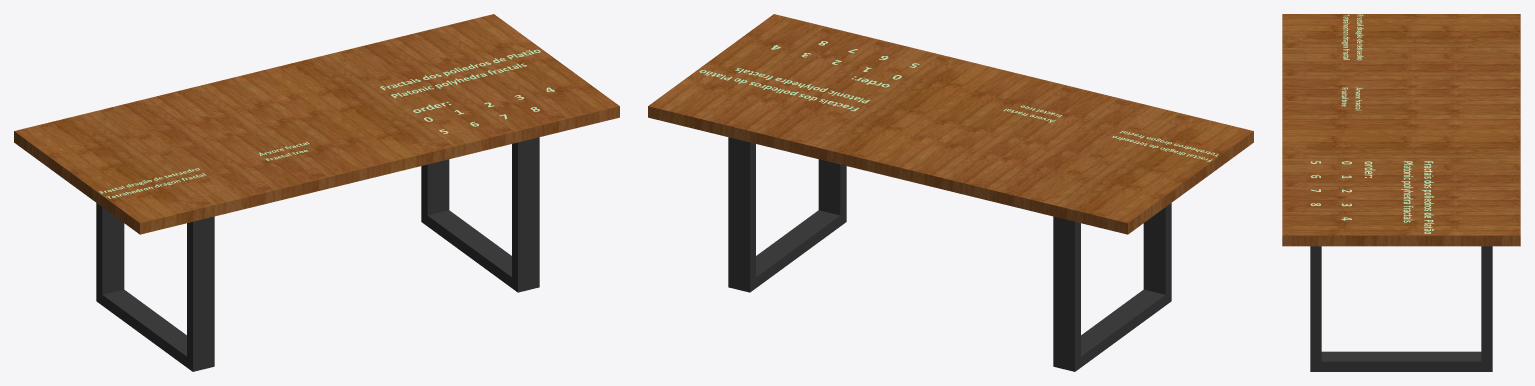
File: fractal_platao3.glb
The picture shows the model from 3 angles, left to right: view 1: azimuth 30°, elevation 25°; view 2: azimuth 150°, elevation 25°; view 3: azimuth 270°, elevation 25°; orthographic projection. The views are drawn at different scales.
Visible parts, largest first — view 1: object 2, Composant#1 (×2), Fractais dos pol; view 2: object 2, Composant#1 (×2), Fractais dos pol; view 3: object 2, Composant#1, Fractais dos pol, Fractal dragão d, order: 0 1.
Part boxes in pixels (<box>): object 2: <box>14,14,619,234</box>; Composant#1 (×2): <box>96,137,539,371</box>; Fractais dos pol: <box>380,49,540,98</box>; object 2: <box>648,14,1253,234</box>; Composant#1 (×2): <box>728,137,1171,371</box>; Fractais dos pol: <box>699,68,869,111</box>; object 2: <box>1282,14,1520,246</box>; Composant#1: <box>1310,246,1492,371</box>; Fractais dos pol: <box>1401,161,1433,233</box>; Fractal dragão d: <box>1341,14,1363,60</box>; order: 0 1: <box>1341,161,1375,220</box>.
Bounding box in the file's own units: 2.2 × 0.7711 × 1.
Materials: 4 (1 with a texture image).
